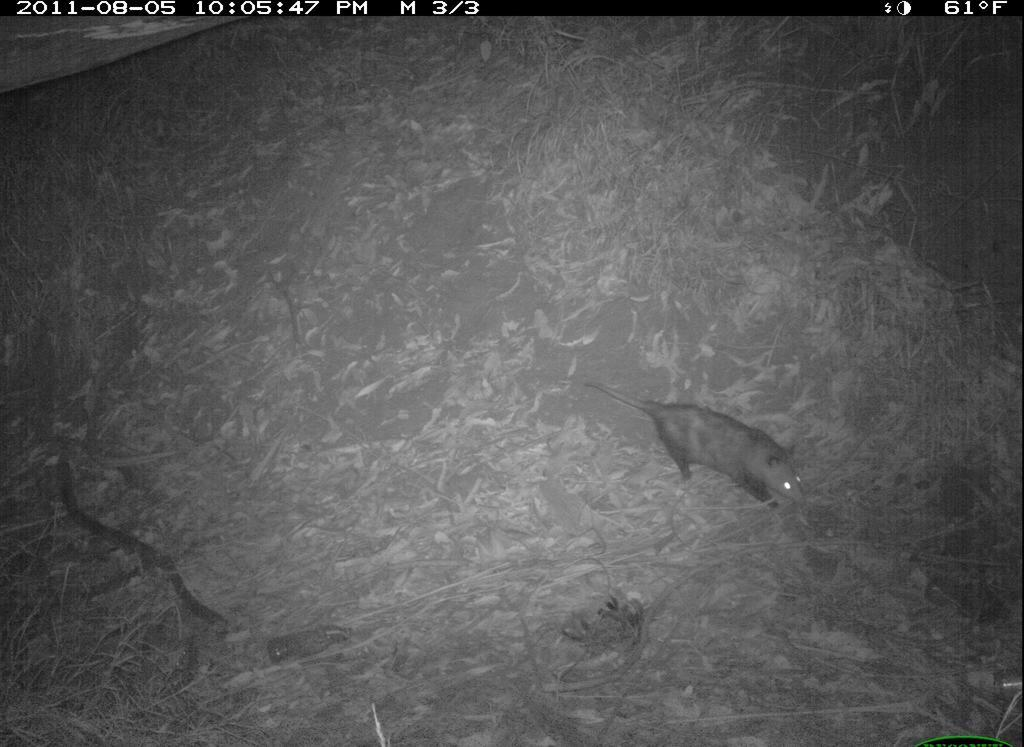opossum: (577, 368, 821, 533)
